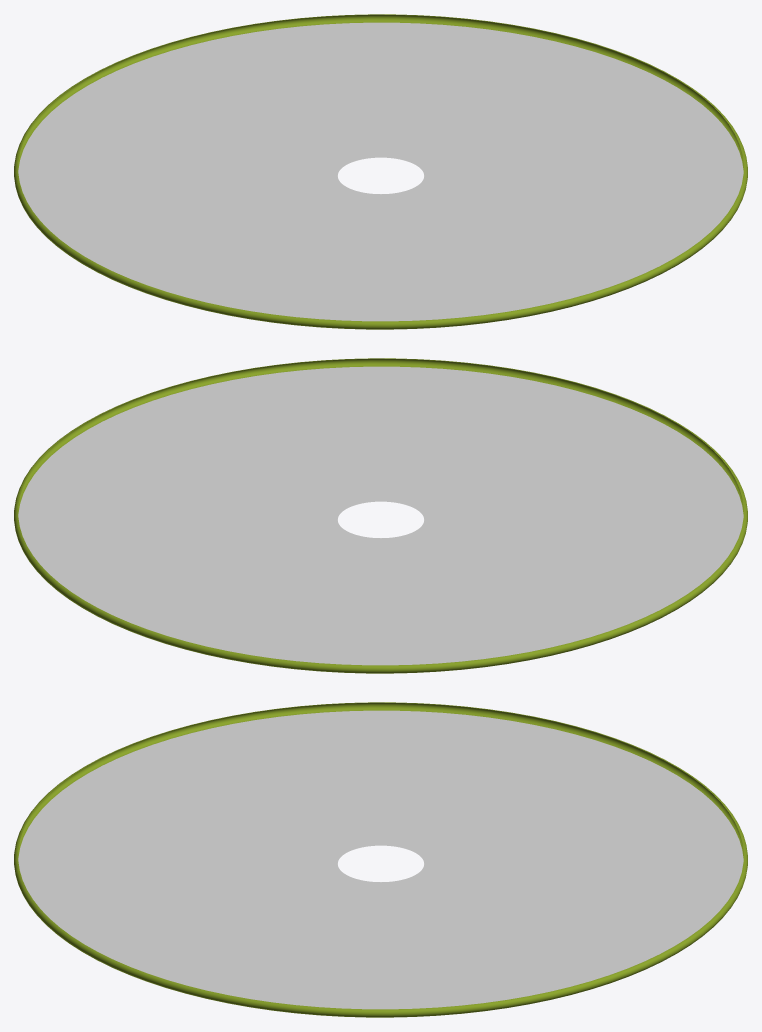
Rendered from table_large_surface.dae.
The picture shows the model from 3 angles, top to bottom: view 1: azimuth 30°, elevation 25°; view 2: azimuth 150°, elevation 25°; view 3: azimuth 270°, elevation 25°; orthographic projection.
Visible parts, largest first — view 1: instance_0_080, instance_0_085; view 2: instance_0_080, instance_0_085; view 3: instance_0_080, instance_0_085.
Boxes of the visible parts, x1,y1,x2,y2 form: instance_0_080: (18,22,743,321); instance_0_085: (14,14,747,329); instance_0_080: (18,366,743,665); instance_0_085: (14,358,747,673); instance_0_080: (18,710,743,1009); instance_0_085: (14,702,747,1017).
Size of the model in its own units: 1.08 by 1.08 by 0.0127.
